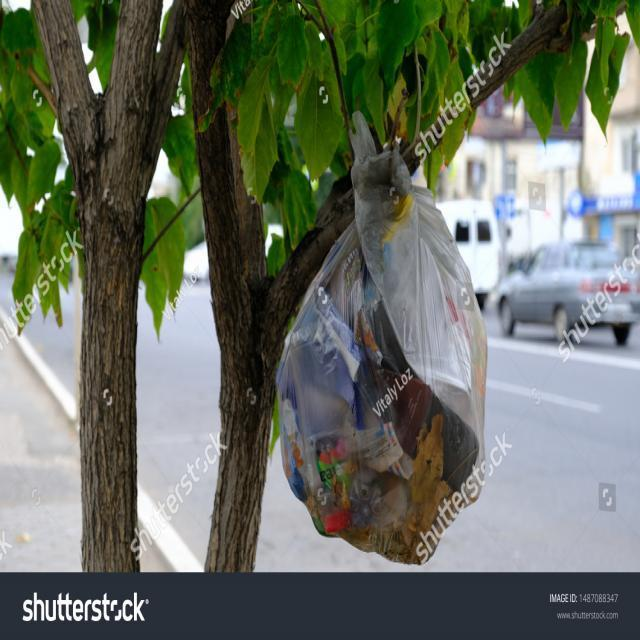Garbage_Bag: (268, 107, 510, 570)
